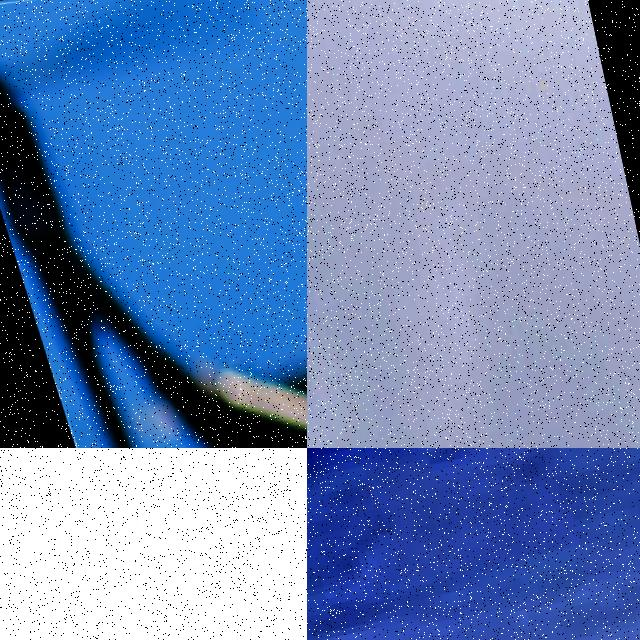drone: (0, 0, 307, 448)
